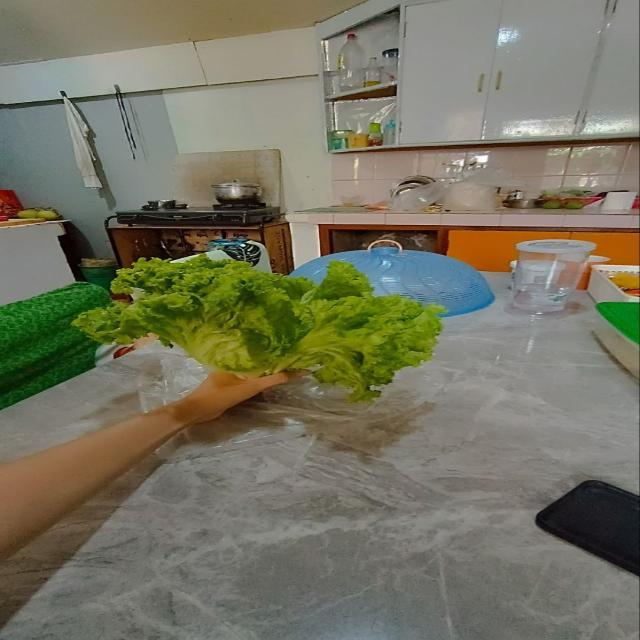Lettuce-Ready-to-Harvest: (75, 248, 440, 399)
